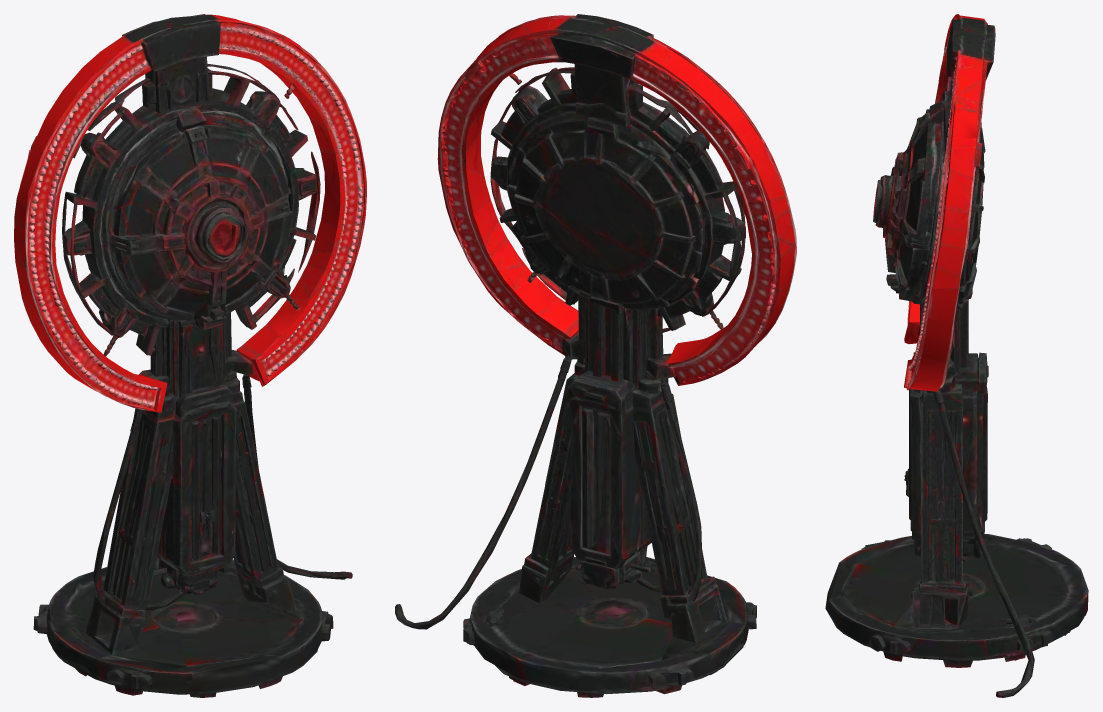
File: mx_map_shield_gen.glb
The picture shows the model from 3 angles, left to right: view 1: azimuth 30°, elevation 25°; view 2: azimuth 150°, elevation 25°; view 3: azimuth 270°, elevation 25°; orthographic projection. The views are drawn at different scales.
Bounding box in the file's own units: 1.16 × 1.9 × 0.7769.
Materials: 1 (1 with a texture image).
